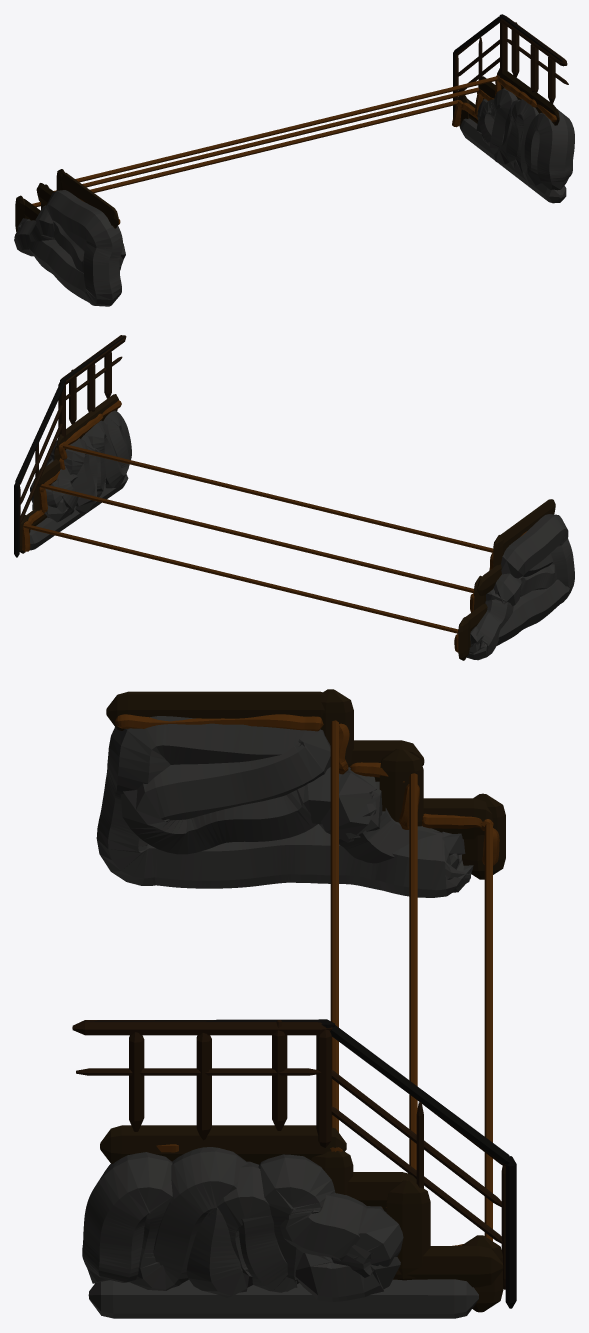
Rendered from Gelander.fbx.
3 renders of one model, top to bottom at view 1: azimuth 30°, elevation 25°; view 2: azimuth 150°, elevation 25°; view 3: azimuth 270°, elevation 25°, orthographic. The views are drawn at different scales.
Visible parts, largest first — view 1: Gelander; view 2: Gelander; view 3: Gelander.
Part boxes in pixels (<box>): Gelander: <box>14,14,574,306</box>; Gelander: <box>14,335,574,660</box>; Gelander: <box>72,689,516,1318</box>.
Size of the model in its own units: 4.55 by 1.38 by 1.81.
